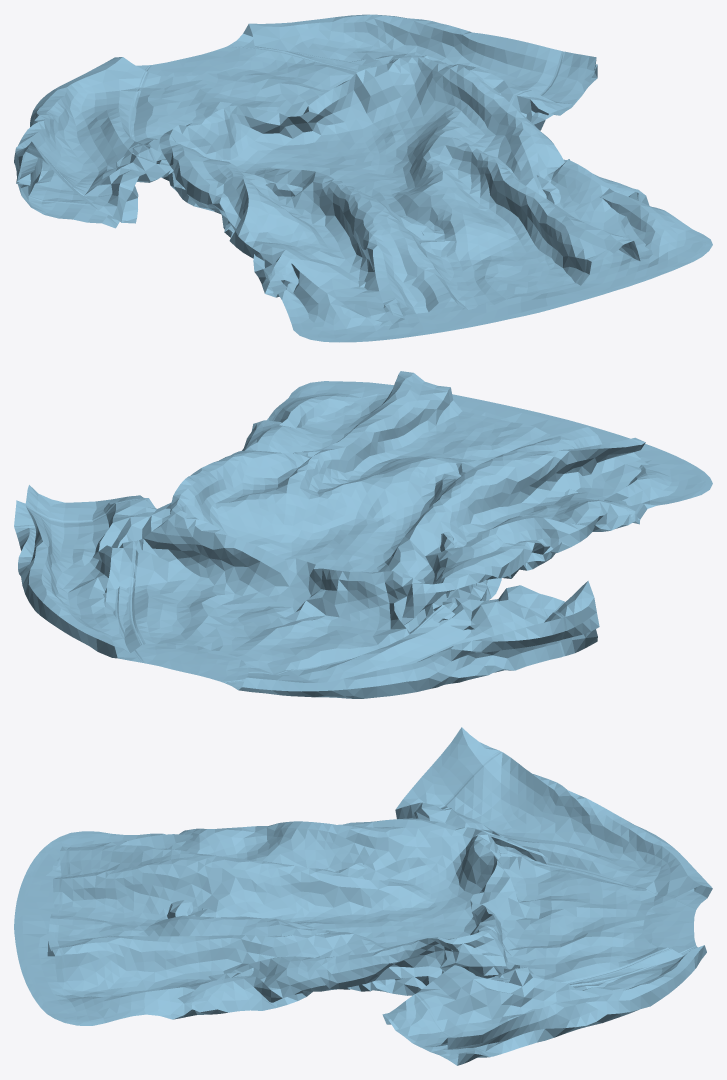
File: frame_03.glb
The picture shows the model from 3 angles, top to bottom: view 1: azimuth 30°, elevation 25°; view 2: azimuth 150°, elevation 25°; view 3: azimuth 270°, elevation 25°; orthographic projection. The views are drawn at different scales.
Visible parts, largest first — view 1: frame_03.obj; view 2: frame_03.obj; view 3: frame_03.obj.
Boxes of the visible parts, <box> form: frame_03.obj: <box>14,14,712,342</box>; frame_03.obj: <box>14,371,712,698</box>; frame_03.obj: <box>14,727,712,1065</box>.
Bounding box in the file's own units: 1.7 × 0.2197 × 1.83.
